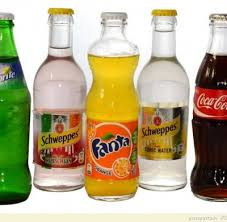fanta: (88, 18, 140, 201)
